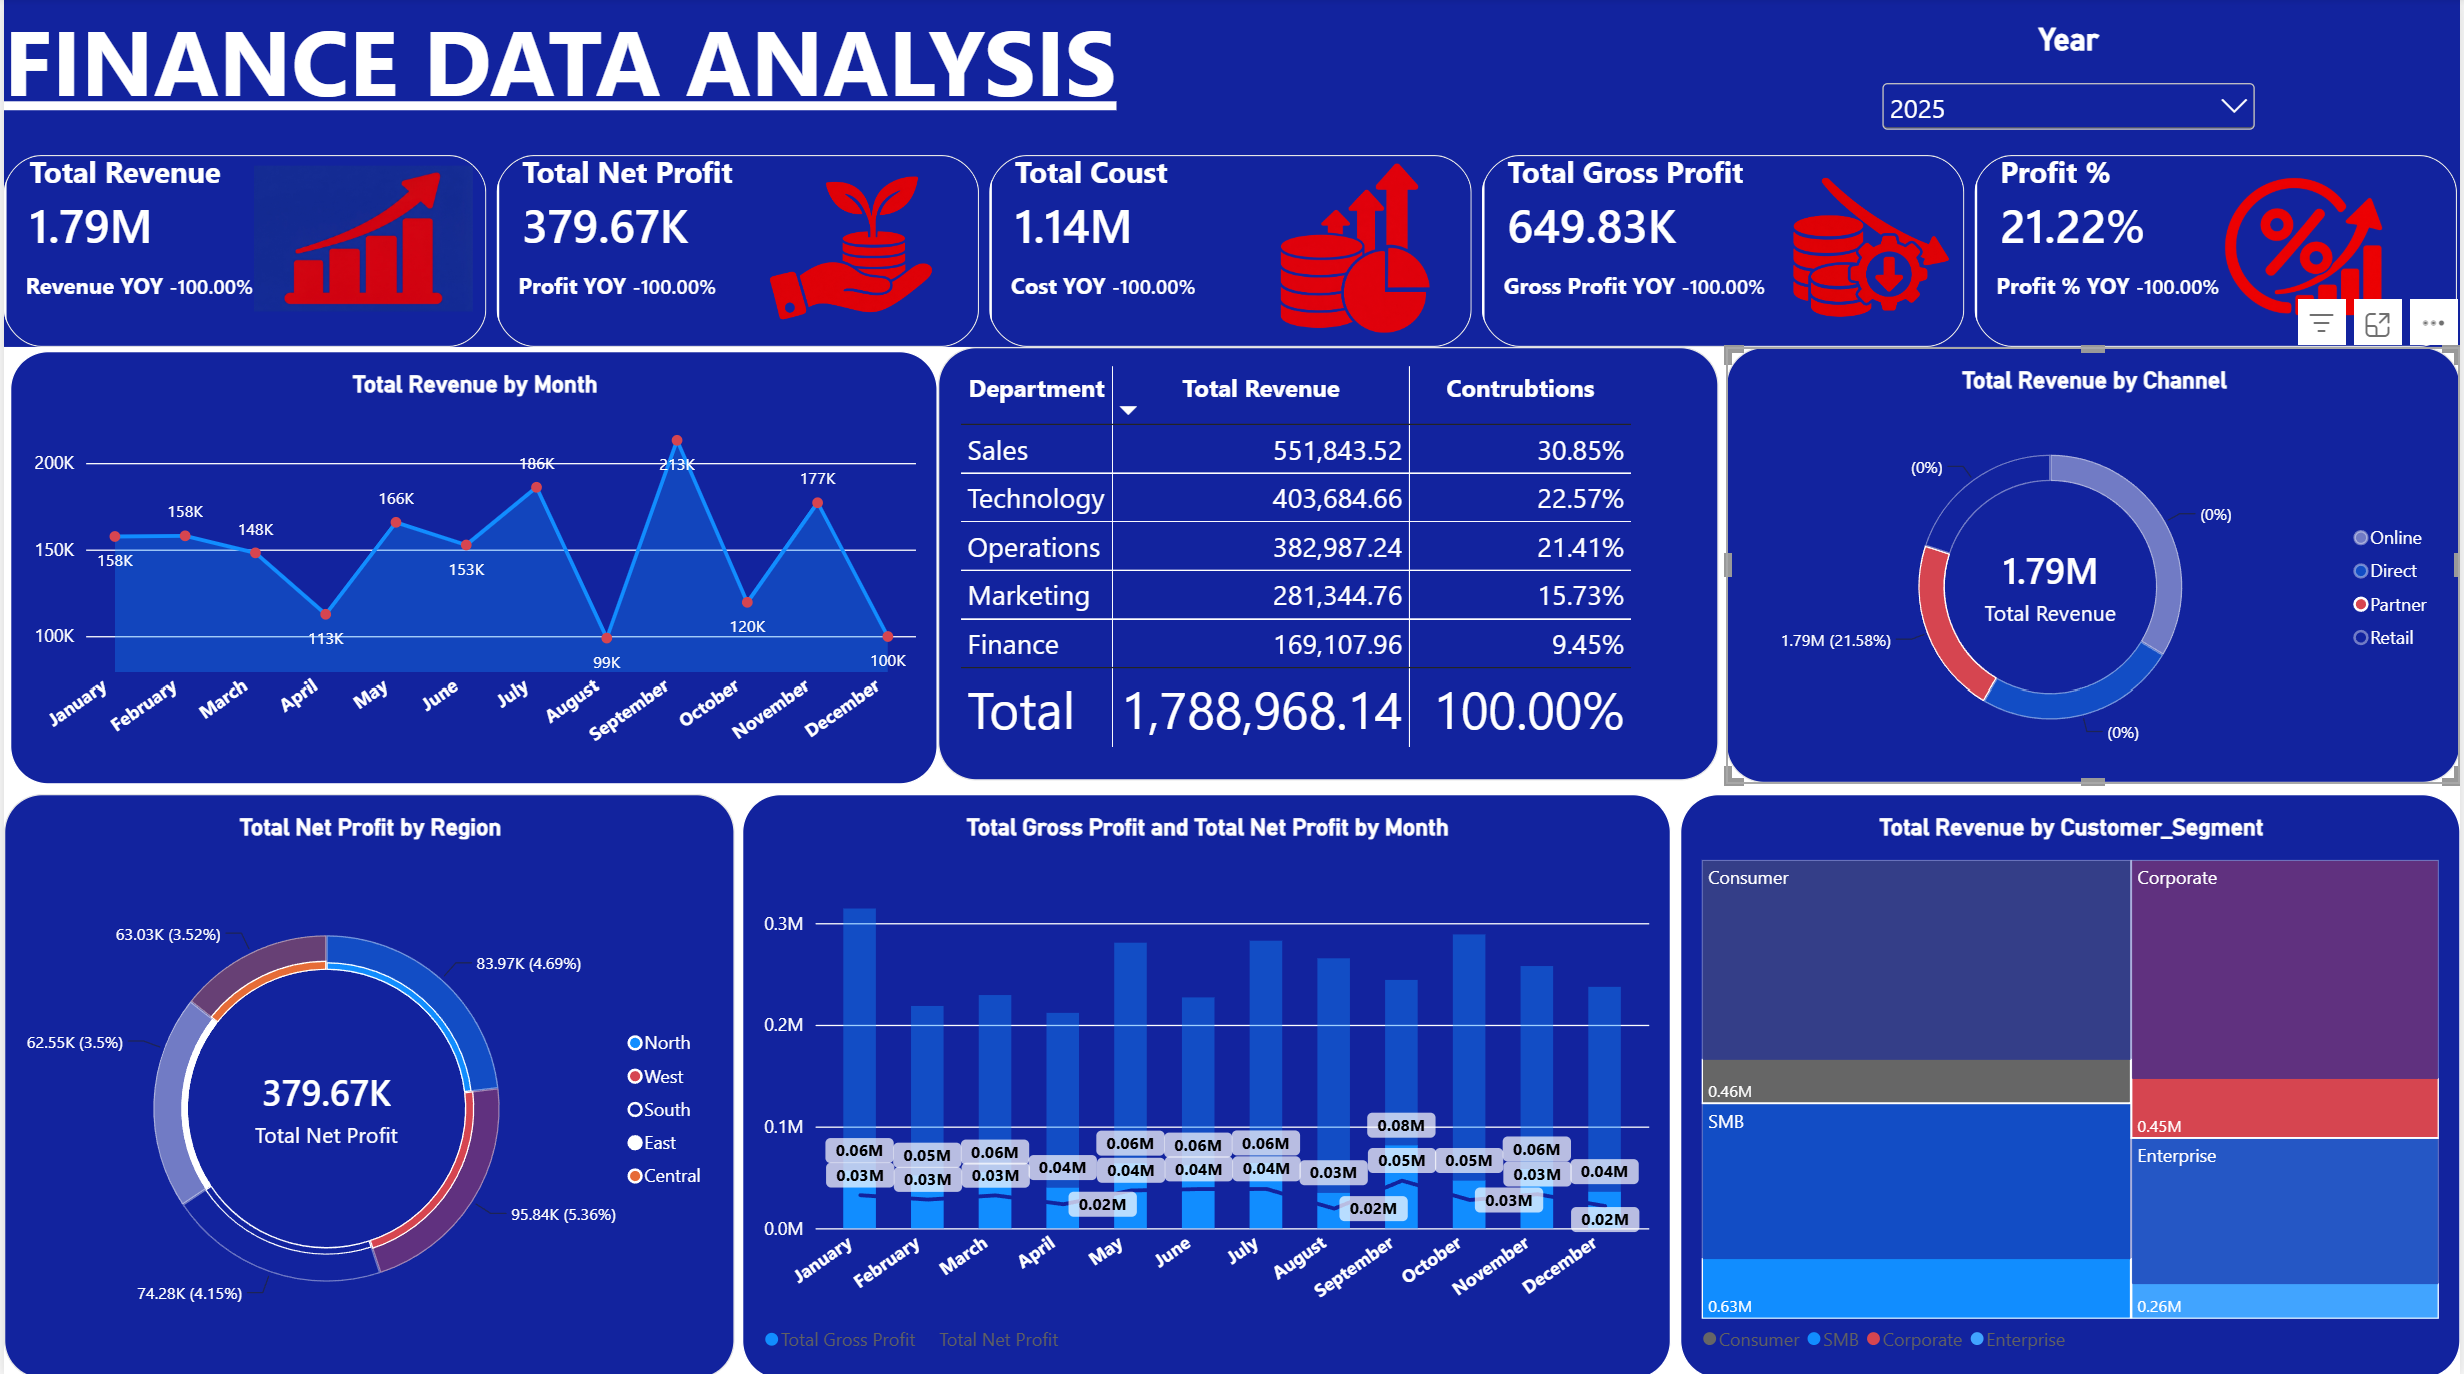

This screenshot's page, from the dashboard's own definition file:
{"tool":"powerbi","page":{"name":"Dashboard","canvas":[1920,1080],"ordinal":0},"visuals":[{"type":"textbox","box":[0,0,1920,123.6],"z":0},{"type":"cardVisual","fields":{"Data":["Finance Data Analysis.Total Revenue","Finance Data Analysis.Total Net Profit","Finance Data Analysis.Total Coust","Finance Data Analysis.Total Gross Profit","Finance Data Analysis.Profit %"]},"box":[0,123.6,1920,150],"z":1},{"type":"areaChart","fields":{"Category":["Finance Data Analysis.Transaction_Date.Variation.Date Hierarchy.Month"],"Y":["Finance Data Analysis.Total Revenue"]},"box":[4.1,276.1,725,337.9],"z":2},{"type":"tableEx","fields":{"Values":["Finance Data Analysis.Department","Finance Data Analysis.Total Revenue","Finance Data Analysis.Contrubtions"]},"box":[729.3,274,610,337.9],"z":3},{"type":"donutChart","fields":{"Category":["Finance Data Analysis.Channel"],"Y":["Finance Data Analysis.Total Revenue"]},"box":[1345.2,274,574,340],"z":4},{"type":"lineClusteredColumnComboChart","fields":{"Category":["Finance Data Analysis.Transaction_Date.Variation.Date Hierarchy.Month"],"Y":["Finance Data Analysis.Total Gross Profit"],"Y2":["Finance Data Analysis.Total Net Profit"]},"box":[576.8,622.1,726,457.3],"z":5},{"type":"treemap","fields":{"Group":["Finance Data Analysis.Customer_Segment"],"Values":["Finance Data Analysis.Total Revenue"]},"box":[1310.2,622.1,610,457],"z":6},{"type":"donutChart","fields":{"Category":["Finance Data Analysis.Region"],"Y":["Finance Data Analysis.Total Net Profit"]},"box":[0,622.1,571,457],"z":7},{"type":"slicer","title":"Year","fields":{"Values":["Finance Data Analysis.Transaction_Date.Variation.Date Hierarchy.Year"]},"box":[1462.7,18.5,300.8,88.6],"z":8},{"type":"image","box":[510.9,131.8,298.7,129.8],"z":10},{"type":"image","box":[902.3,123.6,300.8,148.3],"z":11},{"type":"image","box":[1302,131.8,298.7,129.8],"z":12},{"type":"image","box":[1666.6,131.8,255.5,129.8],"z":13},{"type":"image","box":[195.7,131.8,171,115.4],"z":14}]}

Visuals, with their boxes in screenshot pixels (x1, y1, x2, y2), scaled from the page's 1920x1080 canvas onto the 2464x1374 screenshot:
textbox: 0, 0, 2463, 157
cardVisual - Finance Data Analysis.Total Revenue x Finance Data Analysis.Total Net Profit: 0, 157, 2463, 348
areaChart - Finance Data Analysis.Transaction_Date.Variation.Date Hierarchy.Month x Finance Data Analysis.Total Revenue: 5, 351, 936, 781
tableEx - Finance Data Analysis.Department x Finance Data Analysis.Total Revenue: 936, 349, 1719, 778
donutChart - Finance Data Analysis.Channel x Finance Data Analysis.Total Revenue: 1726, 349, 2463, 781
lineClusteredColumnComboChart - Finance Data Analysis.Transaction_Date.Variation.Date Hierarchy.Month x Finance Data Analysis.Total Gross Profit: 740, 791, 1672, 1373
treemap - Finance Data Analysis.Customer_Segment x Finance Data Analysis.Total Revenue: 1681, 791, 2463, 1373
donutChart - Finance Data Analysis.Region x Finance Data Analysis.Total Net Profit: 0, 791, 733, 1373
"Year" slicer: 1877, 24, 2263, 136
image: 656, 168, 1039, 333
image: 1158, 157, 1544, 346
image: 1671, 168, 2054, 333
image: 2139, 168, 2463, 333
image: 251, 168, 471, 314
